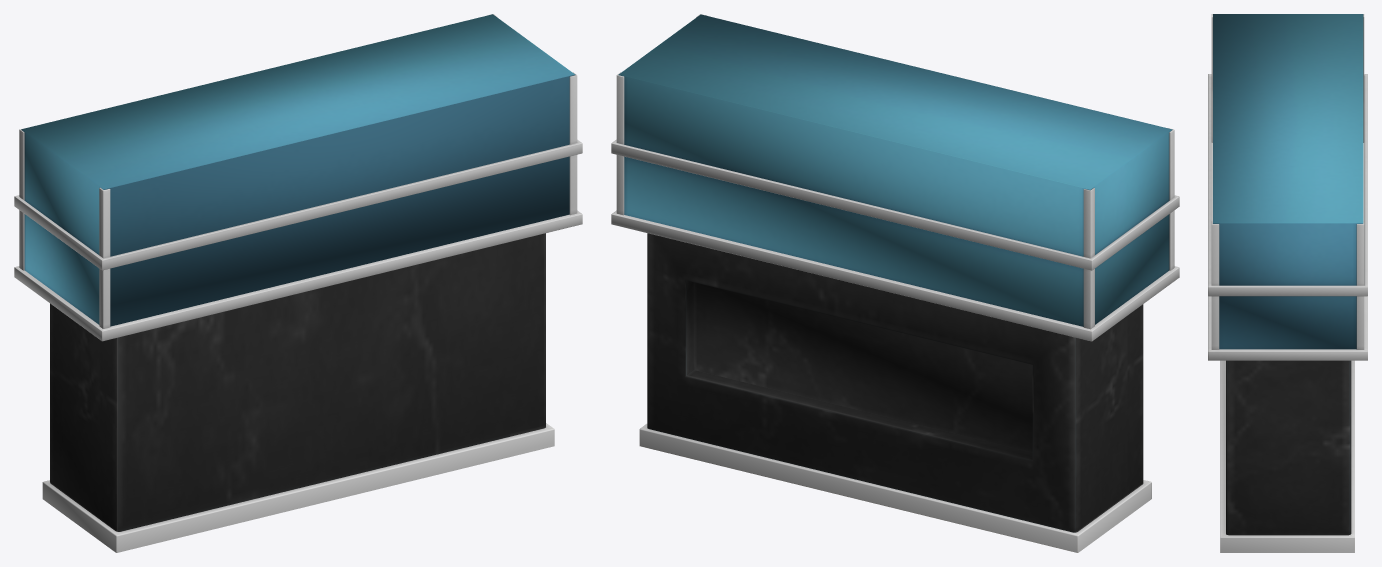
Rendered from EE_Secondary_Product_Display.gltf.
3 views of the same model, side by side, from view 1: azimuth 30°, elevation 25°; view 2: azimuth 150°, elevation 25°; view 3: azimuth 270°, elevation 25° (orthographic). The views are drawn at different scales.
Parts seen in each view (by area): view 1: EE_Secondary_Product_Display.001; view 2: EE_Secondary_Product_Display.001; view 3: EE_Secondary_Product_Display.001.
Part boxes in pixels (left/top/right/bottom): EE_Secondary_Product_Display.001: left=14, top=14, right=582, bottom=552; EE_Secondary_Product_Display.001: left=611, top=14, right=1179, bottom=552; EE_Secondary_Product_Display.001: left=1208, top=14, right=1367, bottom=552.
Size of what is drawn, in the model's own units: 1.72 by 1.27 by 0.5452.
3 materials, 3 textured.
